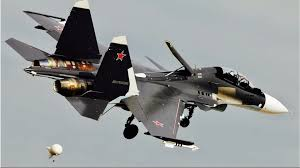maybay_muctieu: (16, 14, 291, 147)
ten_lua: (160, 137, 203, 156)
